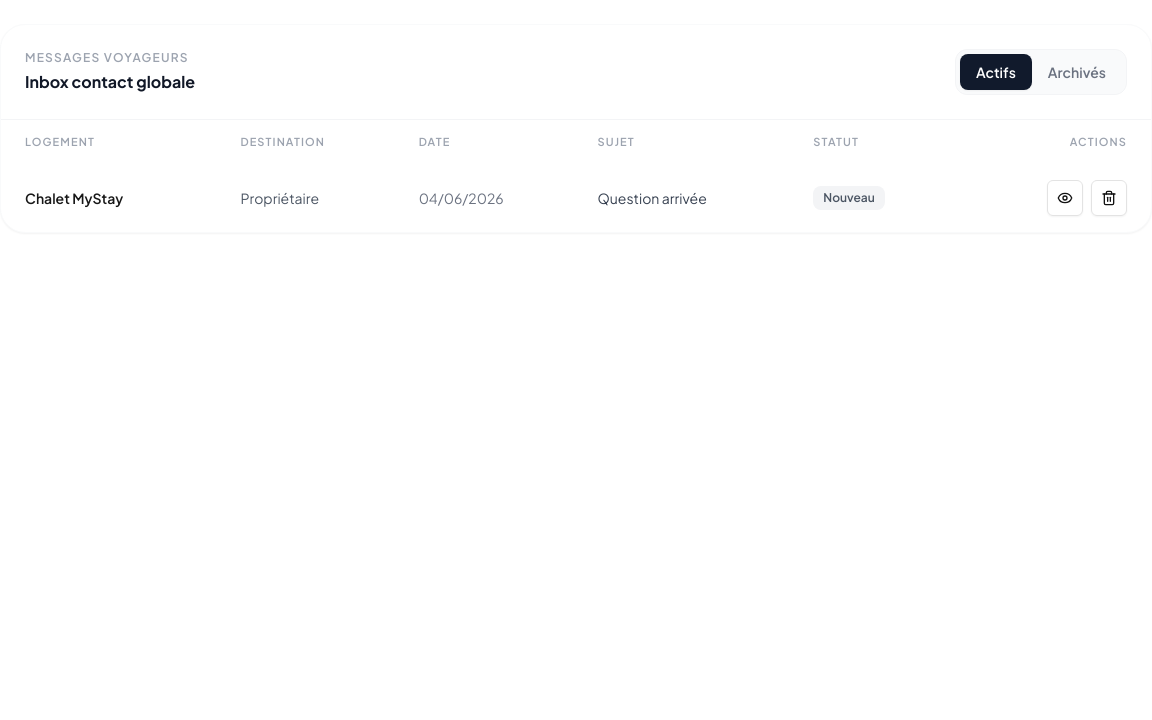
Test case: 024 admin contact messages panel › AC-02-01/AC-02-02: renders rows and opens a details modal from the eye action
Expected: the text "Chalet MyStay" is shown, x1=1 y1=164 x2=224 y2=232
Expected: the text "Propriétaire" is shown, x1=224 y1=164 x2=403 y2=232
Step 1. Click the button named "Voir le message" → (1065, 198), box x1=1047 y1=180 x2=1083 y2=216
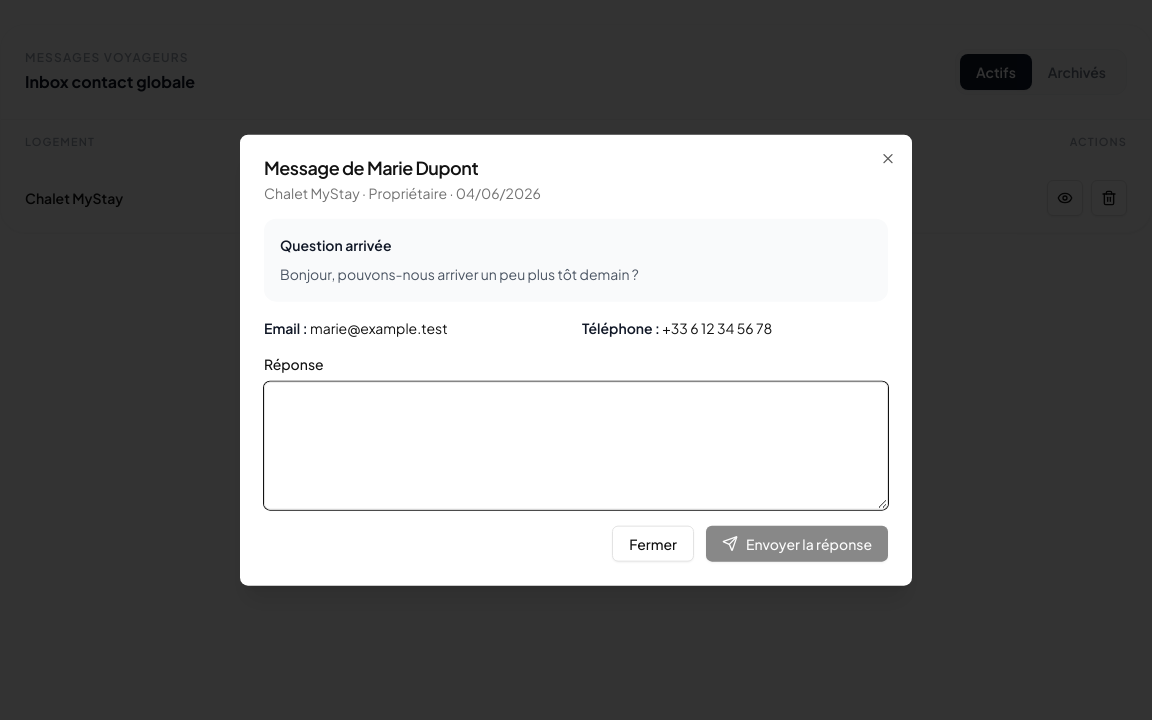
Result: the dialog "Message de Marie Dupont" is shown at x1=240 y1=135 x2=912 y2=585
Result: the text "Bonjour, pouvons-nous arriver un peu plus tôt demain ?" is shown at x1=280 y1=265 x2=639 y2=283
Result: the text box labelled "Réponse" is shown at x1=264 y1=381 x2=888 y2=509
